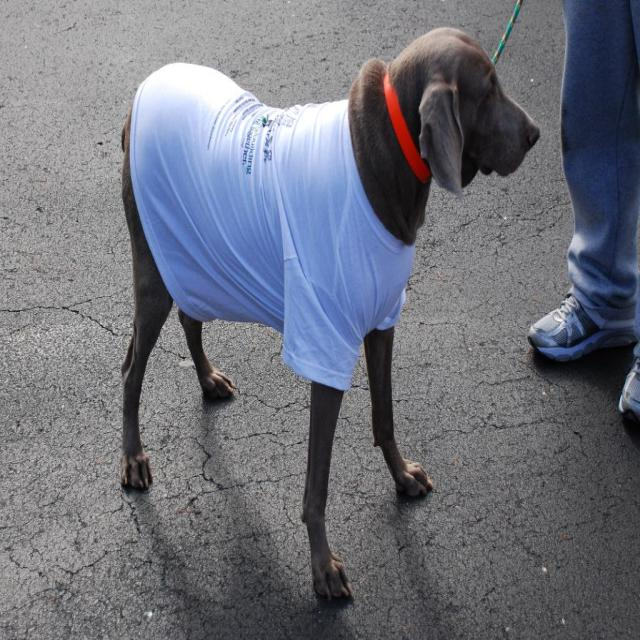Dog: (121, 28, 538, 601)
